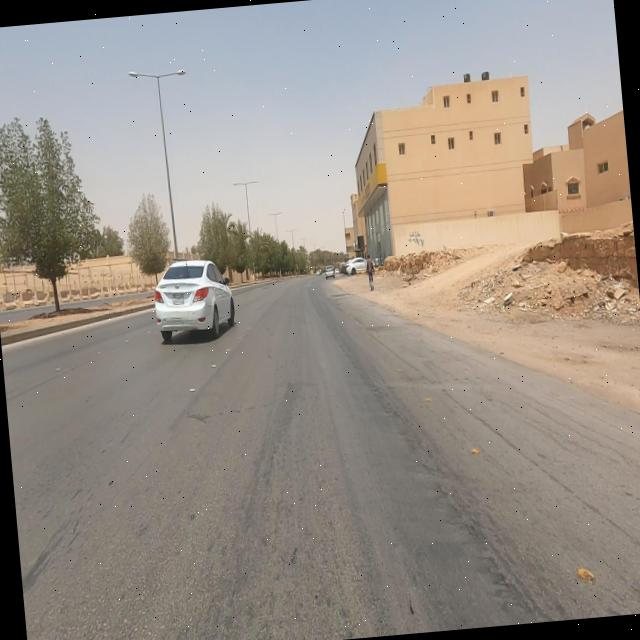Graffiti: (408, 230, 425, 249)
